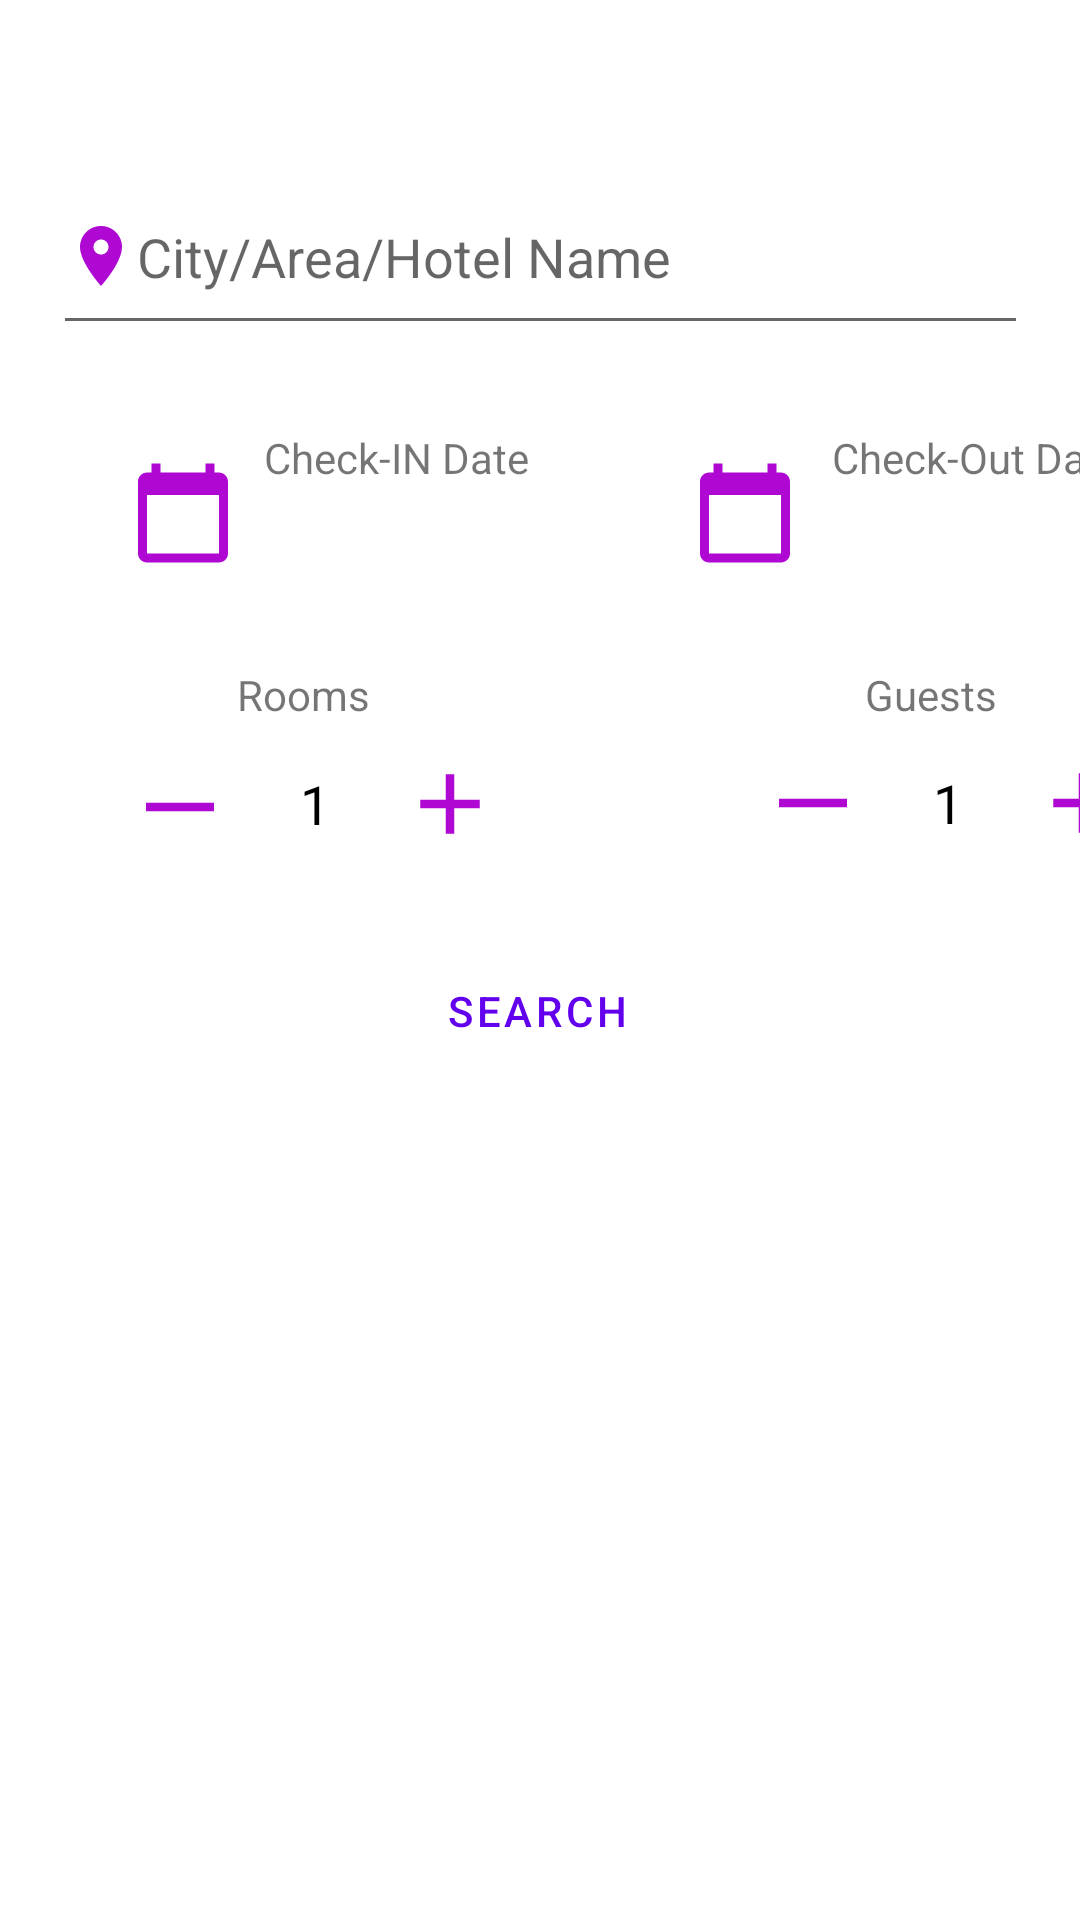

Icon click points for this 1080×1920 phone screenshot, format [x,y]:
calendar today: [183,513], [745,513]
